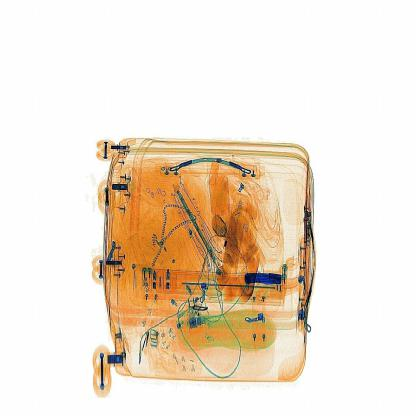knife: (242, 264, 290, 294)
